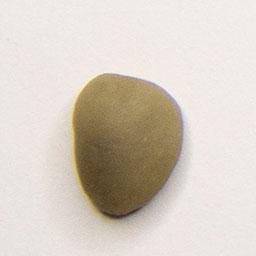premium: (70, 70, 186, 222)
